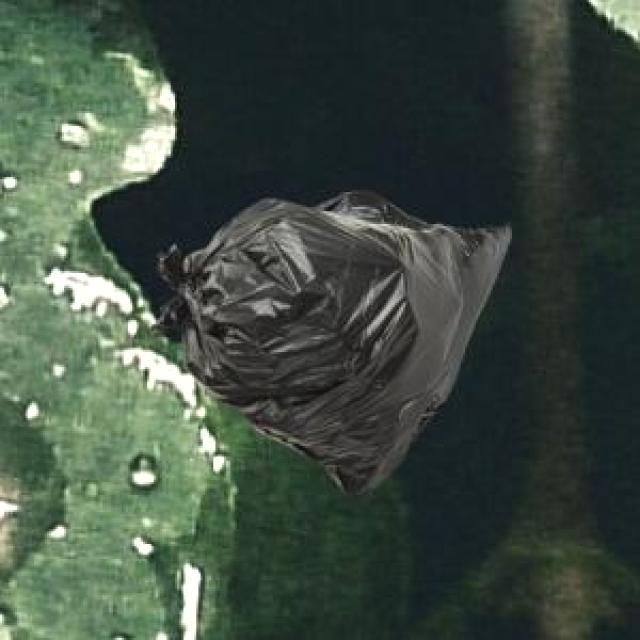Trashbag: (143, 182, 524, 500)
